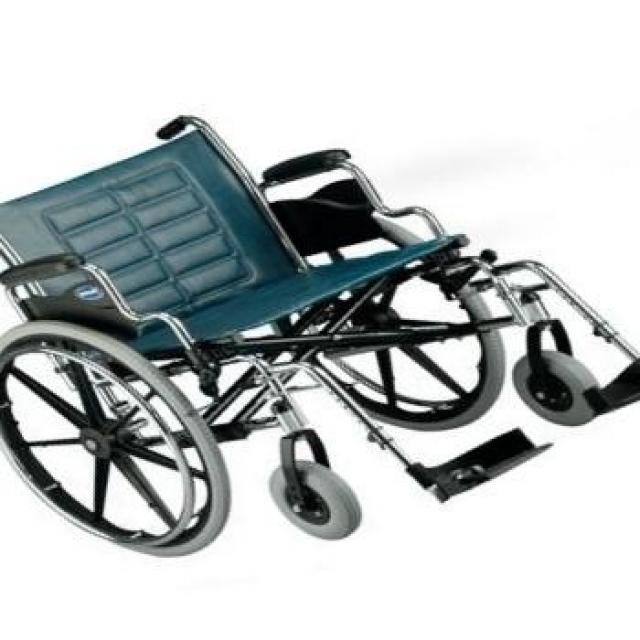wheelchair: (0, 100, 640, 566)
